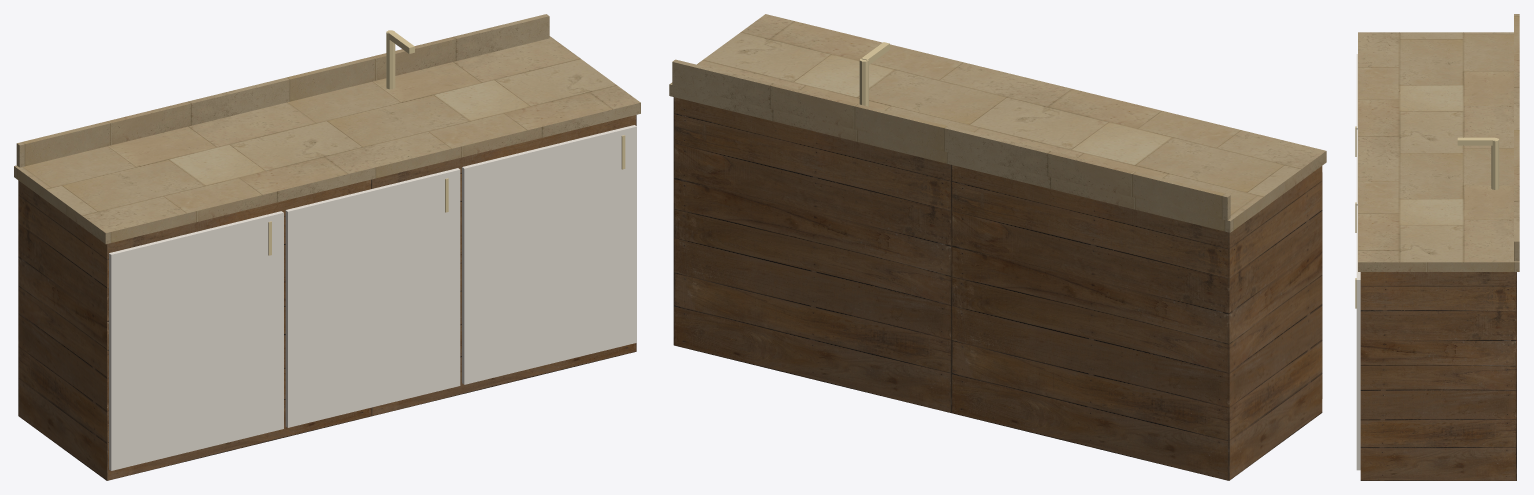
Rendered from bancada_pia_200.glb.
3 views of the same model, side by side, from view 1: azimuth 30°, elevation 25°; view 2: azimuth 150°, elevation 25°; view 3: azimuth 270°, elevation 25° (orthographic). The views are drawn at different scales.
Parts seen in each view (by area): view 1: bancada_pia_200; view 2: bancada_pia_200; view 3: bancada_pia_200.
Boxes of the visible parts, x1,y1,x2,y2 form: bancada_pia_200: (14, 14, 640, 480); bancada_pia_200: (669, 14, 1326, 480); bancada_pia_200: (1355, 14, 1519, 480).
Bounding box in the file's own units: 2.02 × 1.1 × 0.609.
Materials: 5 (2 with a texture image).
